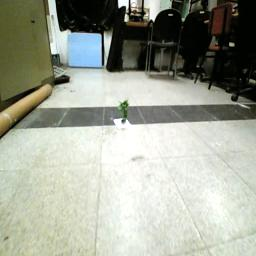herb: (119, 99, 131, 127)
